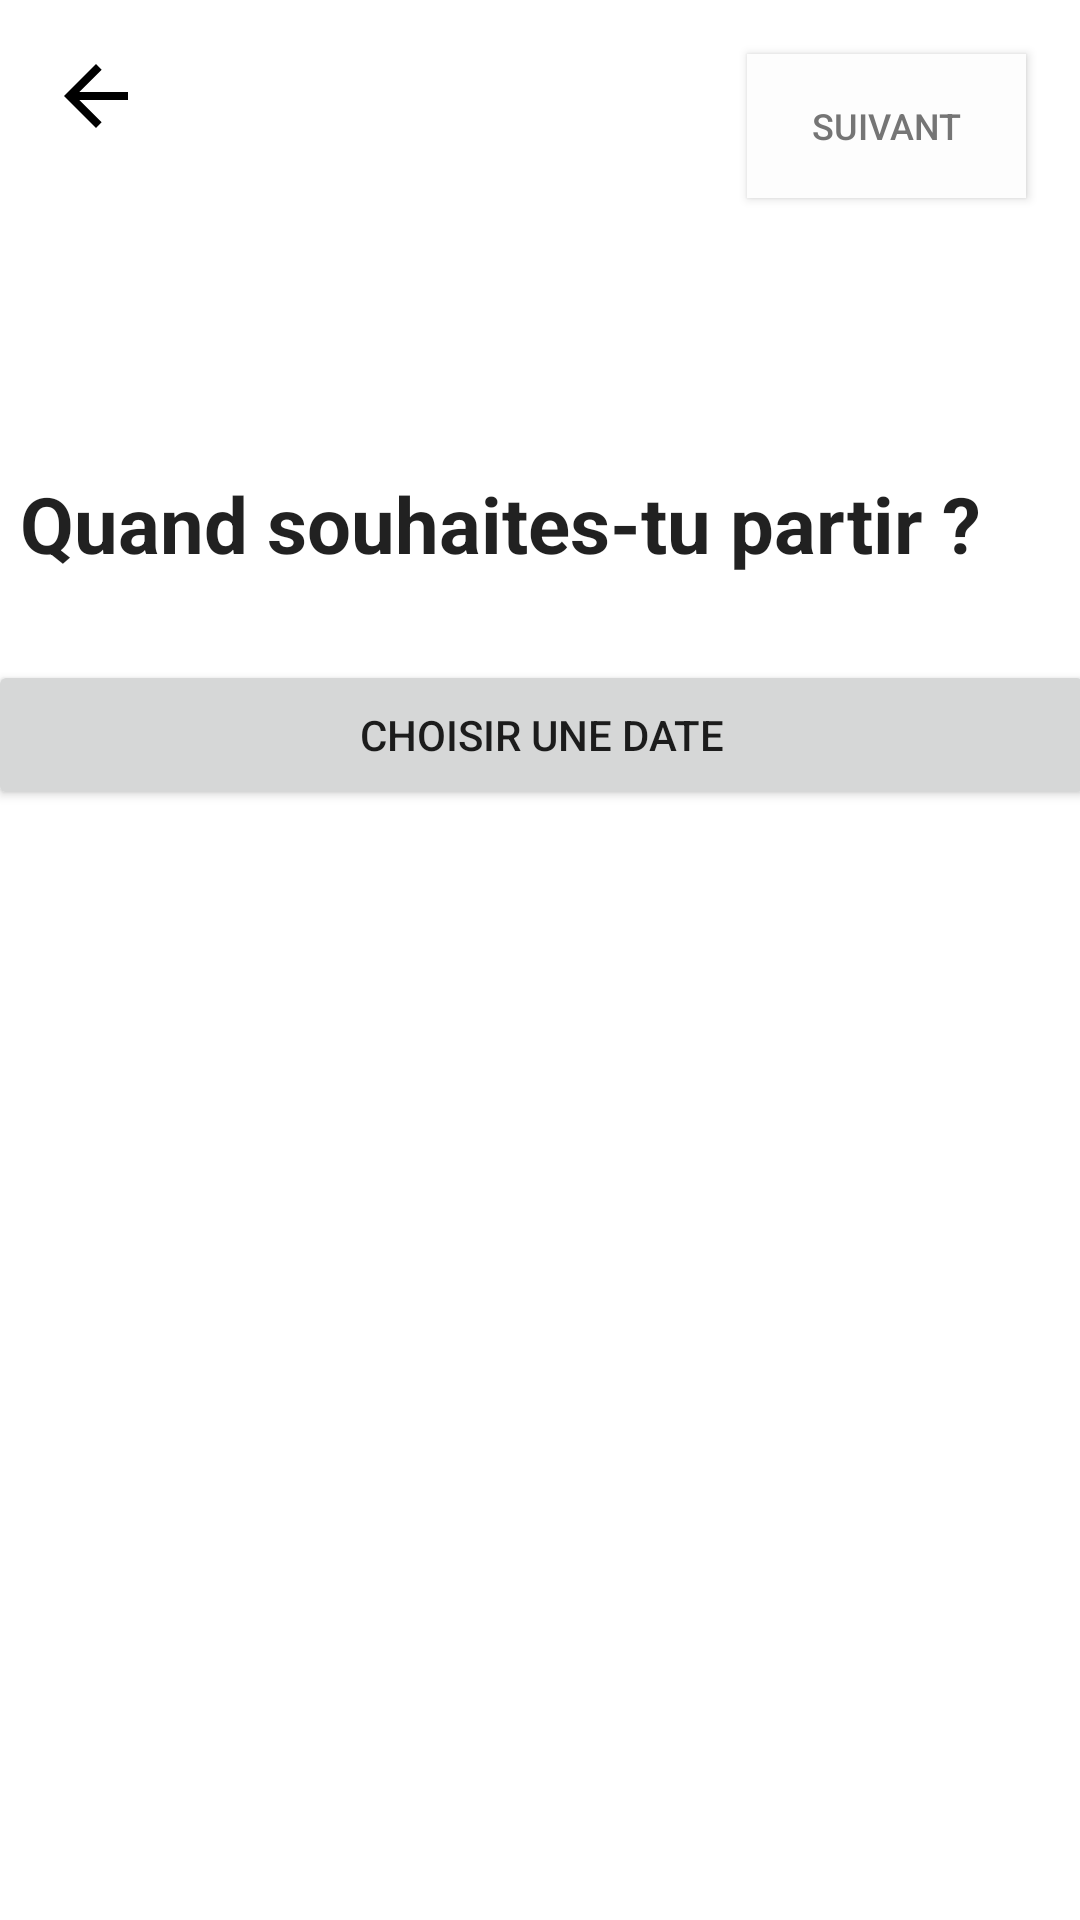

Screen size 1080px x 1920px. Icon name, then its box in pixels as (x1, y1, x2, y2):
Retour: (64, 64, 128, 128)
